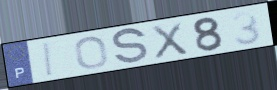3: (231, 9, 263, 46)
8: (191, 16, 225, 53)
I: (42, 40, 56, 79)
O: (73, 35, 111, 70)
S: (111, 26, 151, 67)
X: (149, 20, 190, 61)
